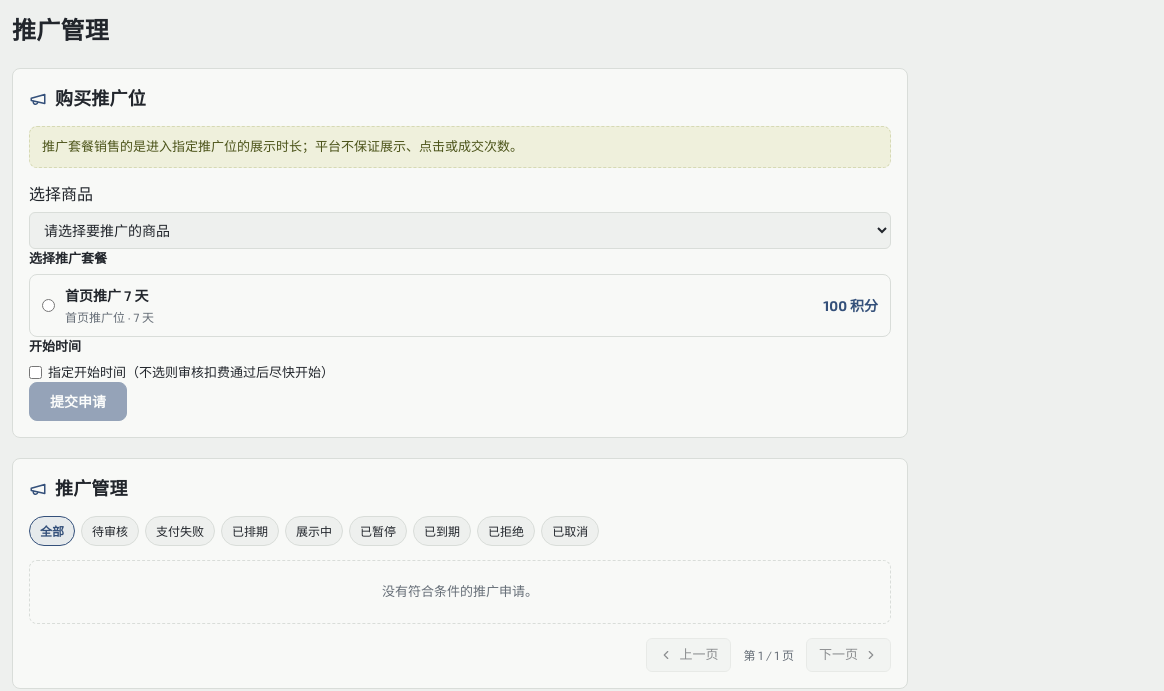
it: merchant promotion mobile completions › keeps desktop inline feedback and correctly describes an idempotent create replay
Step 1. Select "测试商品" in the dropdown labelled "选择商品" → coordinates (460, 230), box [29,212,891,248]
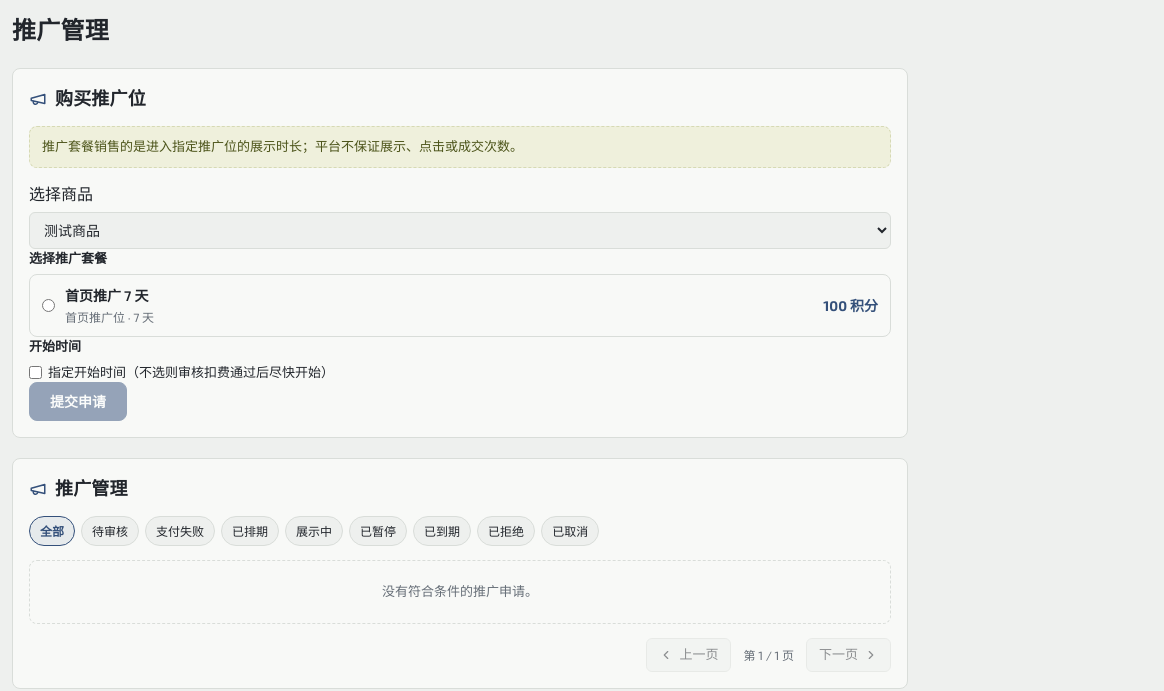
Step 2. Click the radio button labelled "首页推广 7 天 首页推广位 · 7 天 100 积分" → coordinates (48, 306), box [42,299,55,312]
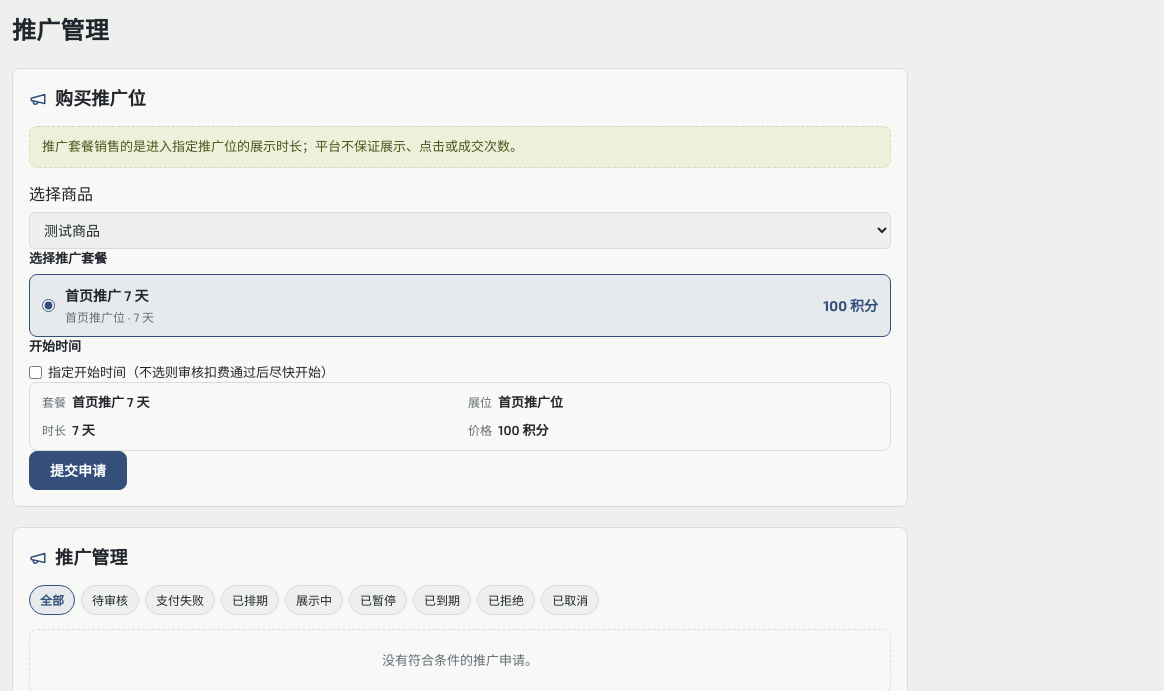
Step 3. Click the button "提交申请" → coordinates (78, 470), box [29,451,127,490]
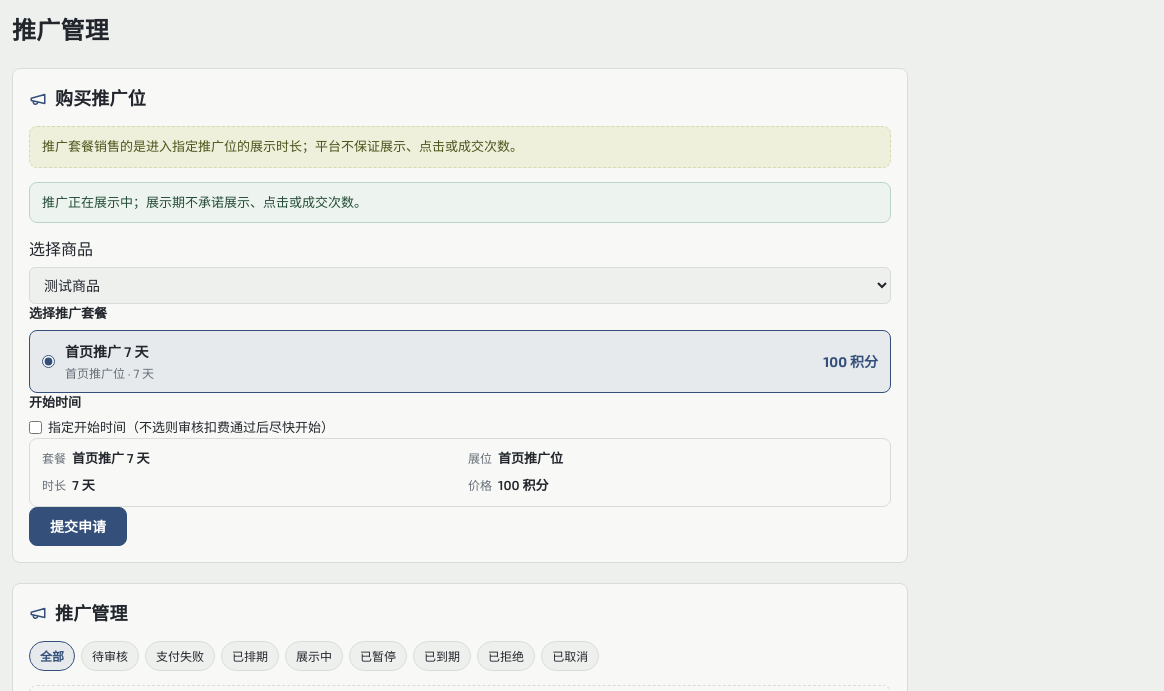
expect the message does not show "等待平台审核": met, box [29,182,891,223]
expect the message shows "推广正在展示中": met, box [42,194,367,210]
